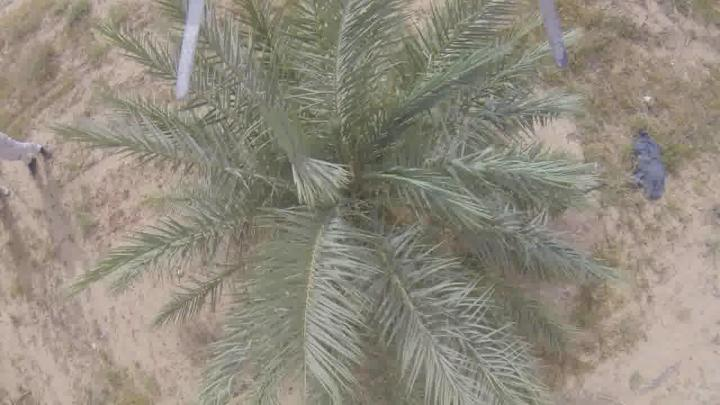Date-Palm-Crown: (210, 30, 504, 332)
